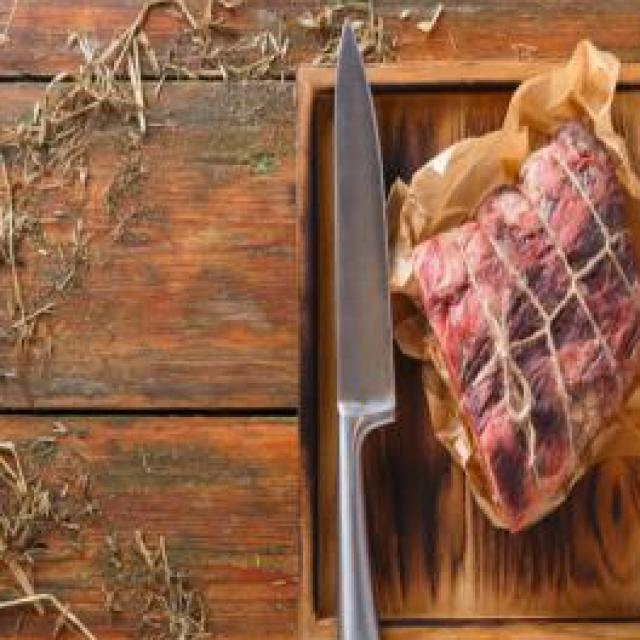knife: (327, 19, 395, 640)
